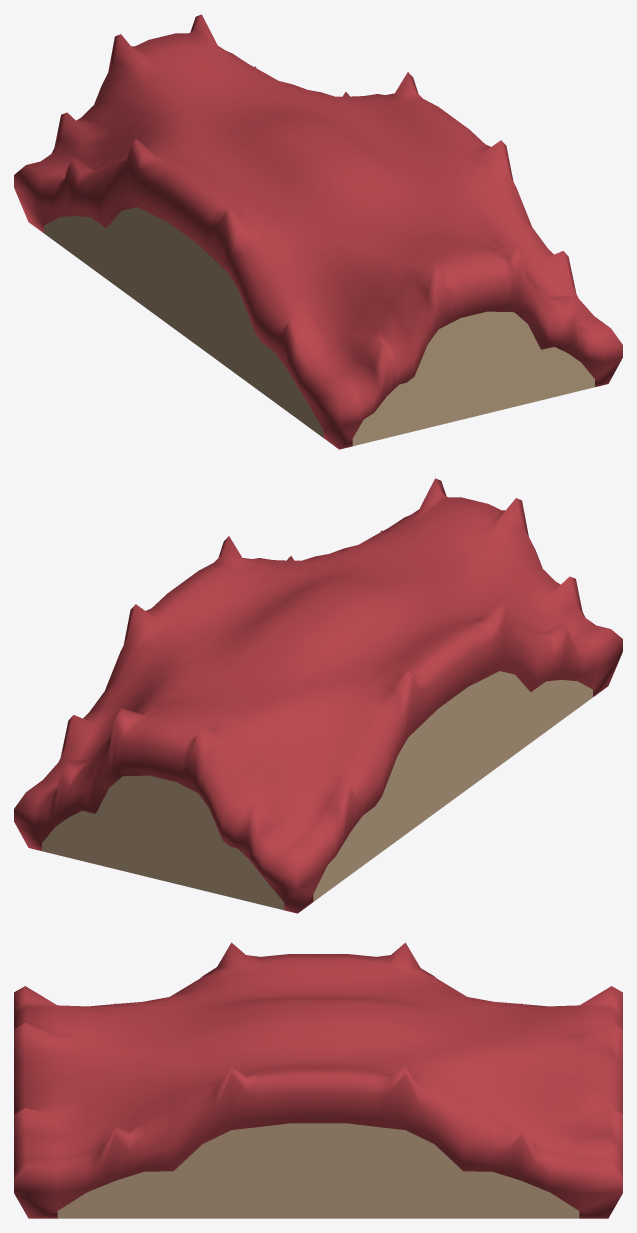
File: Gaudi roof 8x4.fbx
3 renders of one model, top to bottom at view 1: azimuth 30°, elevation 25°; view 2: azimuth 150°, elevation 25°; view 3: azimuth 270°, elevation 25°, orthographic. The views are drawn at different scales.
Visible parts, largest first — view 1: Gaudi Roof 1x2.001; view 2: Gaudi Roof 1x2.001; view 3: Gaudi Roof 1x2.001.
Boxes of the visible parts, x1,y1,x2,y2 form: Gaudi Roof 1x2.001: (14, 14, 622, 449); Gaudi Roof 1x2.001: (14, 478, 622, 913); Gaudi Roof 1x2.001: (14, 942, 622, 1218).
Bounding box in the file's own units: 420 × 233 × 840.
